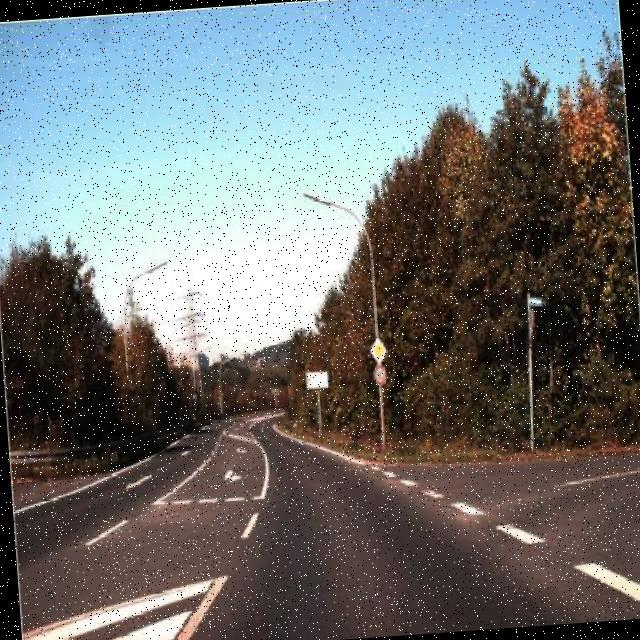Ograniczenie predkosci do 50: (372, 364, 388, 388)
